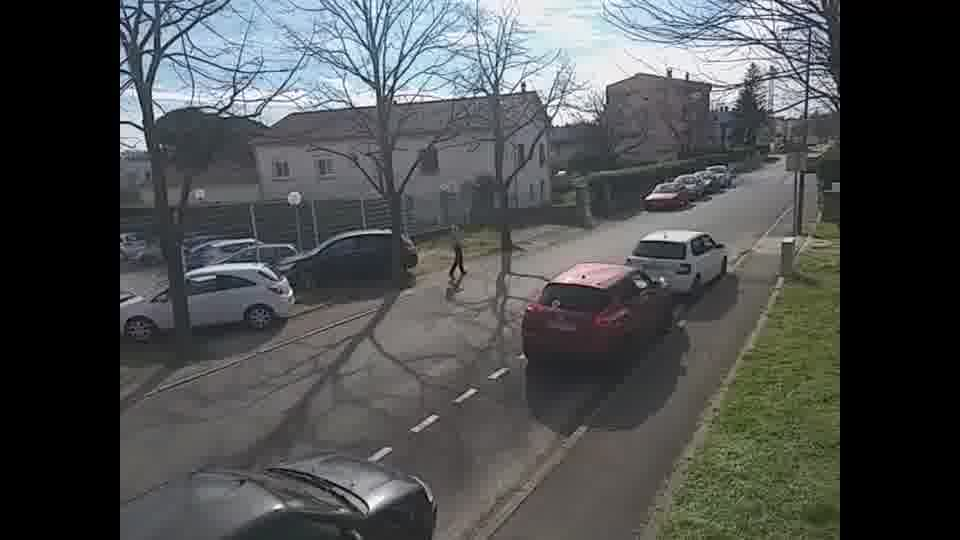jugador: (442, 207, 473, 284)
